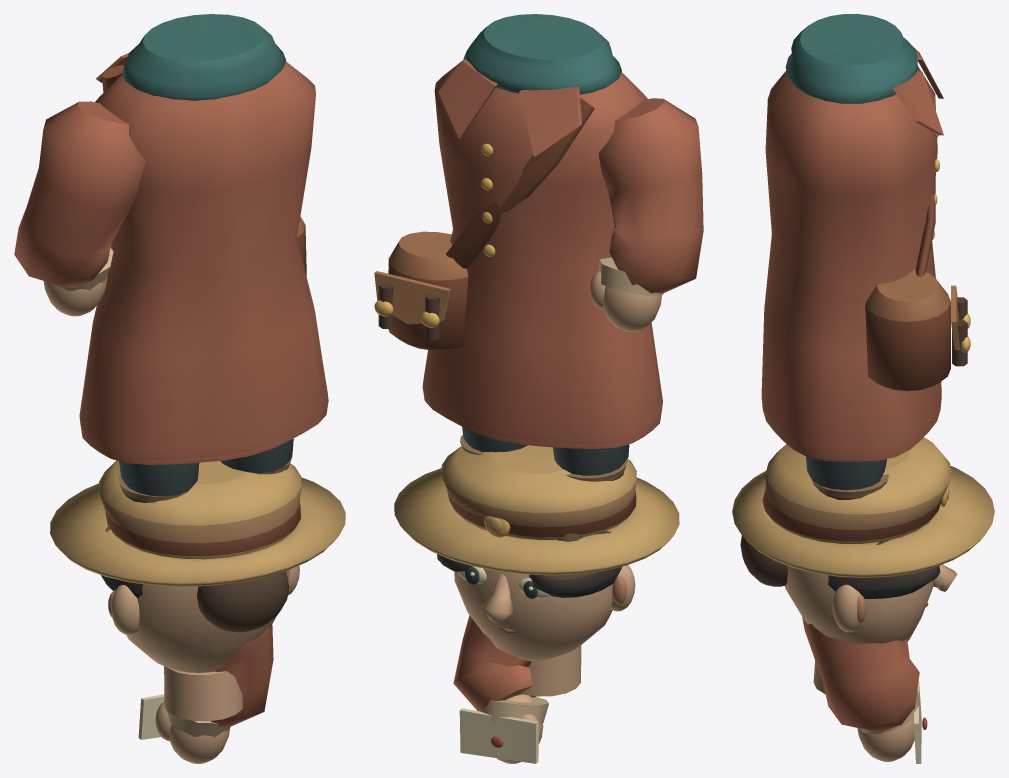
The model's file is postwoman.glb.
3 renders of one model, left to right at view 1: azimuth 30°, elevation 25°; view 2: azimuth 150°, elevation 25°; view 3: azimuth 270°, elevation 25°, orthographic. The views are drawn at different scales.
Parts seen in each view (by area): view 1: Chest, Head, GreetingArm; view 2: Chest, Head, GreetingArm; view 3: Chest, Head, GreetingArm.
Boxes of the visible parts, x1,y1,x2,y2 form: Chest: [14, 14, 328, 598]; Head: [50, 460, 345, 721]; GreetingArm: [138, 624, 273, 763]; Chest: [374, 14, 703, 597]; Head: [394, 445, 679, 696]; GreetingArm: [453, 615, 548, 763]; Chest: [761, 14, 970, 599]; Head: [732, 437, 994, 694]; GreetingArm: [802, 617, 927, 763].
Size of the model in its own units: 0.7595 by 1.8 by 0.6.
Materials: 1 (1 with a texture image).
